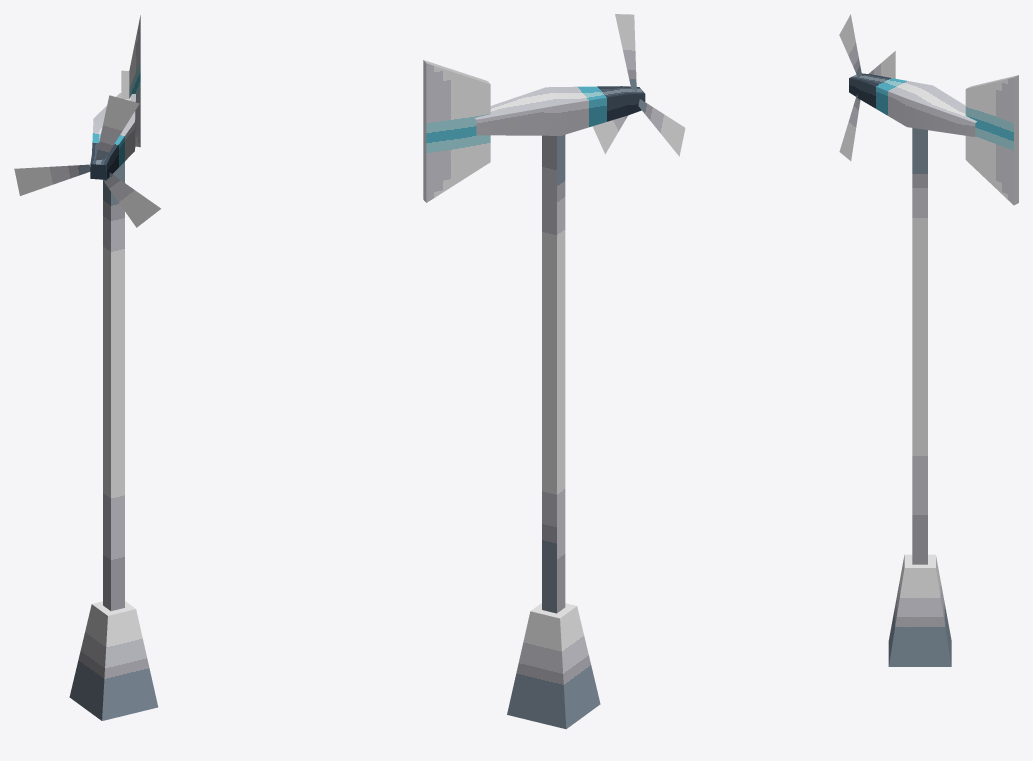
File: windmill.fbx
3 renders of one model, left to right at view 1: azimuth 30°, elevation 25°; view 2: azimuth 150°, elevation 25°; view 3: azimuth 270°, elevation 25°, orthographic. The views are drawn at different scales.
Visible parts, largest first — view 1: polygon2, polygon2.001; view 2: polygon2, polygon2.001; view 3: polygon2, polygon2.001.
Boxes of the visible parts, x1,y1,x2,y2 form: polygon2: (69, 14, 158, 720); polygon2.001: (14, 95, 160, 227); polygon2: (423, 60, 645, 729); polygon2.001: (592, 14, 685, 156); polygon2: (849, 73, 1018, 666); polygon2.001: (839, 14, 895, 160).
Bounding box in the file's own units: 238 × 501 × 220.
